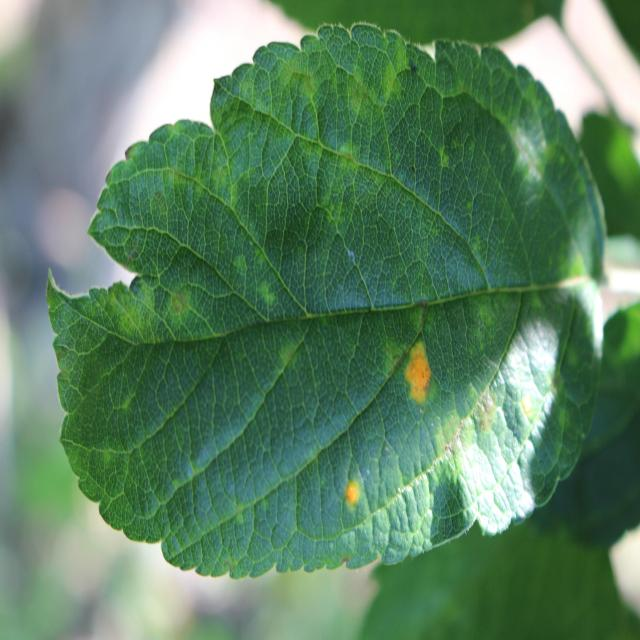rust: (44, 22, 606, 580)
